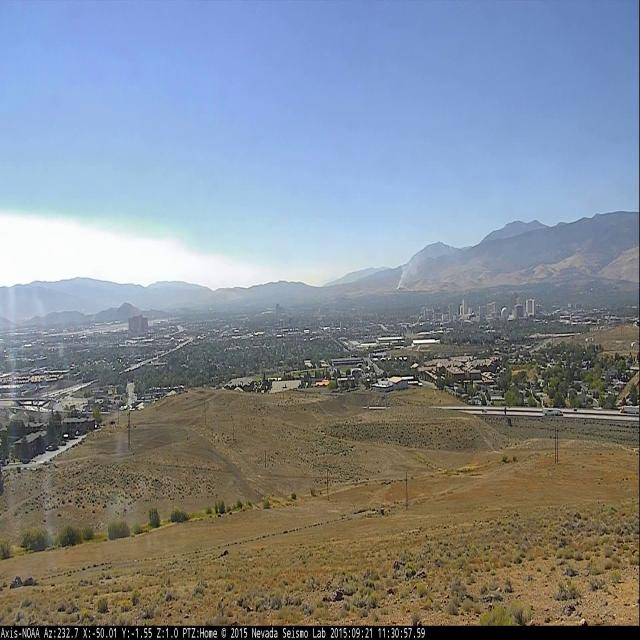smoke: (394, 249, 429, 289)
